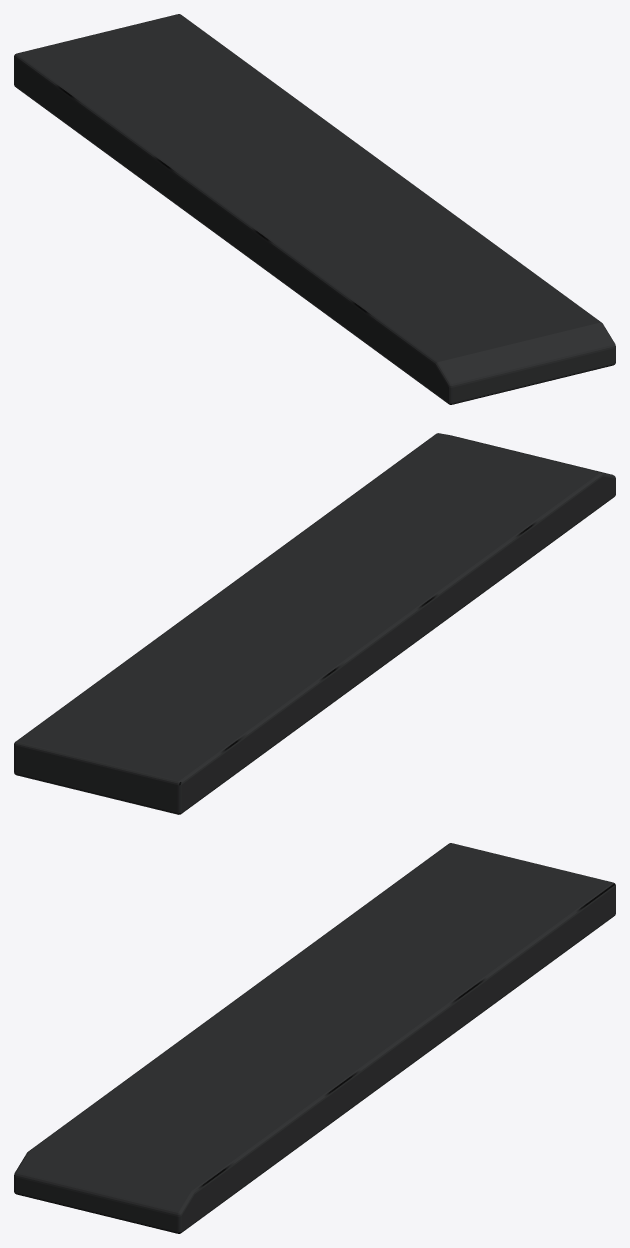
Rendered from SM_M590_Elevator.fbx.
3 renders of one model, top to bottom at view 1: azimuth 30°, elevation 25°; view 2: azimuth 150°, elevation 25°; view 3: azimuth 330°, elevation 25°, orthographic.
Visible parts, largest first — view 1: SM_M590_Elevator; view 2: SM_M590_Elevator; view 3: SM_M590_Elevator.
Part boxes in pixels (left/top/right/bottom): SM_M590_Elevator: left=14, top=14, right=615, bottom=404; SM_M590_Elevator: left=14, top=433, right=615, bottom=814; SM_M590_Elevator: left=14, top=843, right=615, bottom=1233.
Size of the model in its own units: 1.8 by 8.12 by 0.3457.
